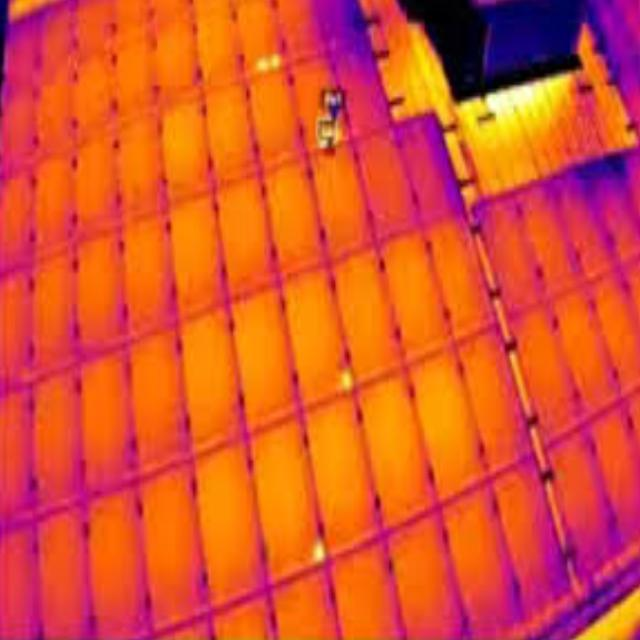hotspot group: (255, 51, 283, 71), (311, 538, 327, 565), (339, 370, 355, 390)
panel with hotspots: (247, 413, 331, 592), (279, 261, 359, 411), (232, 0, 289, 81)
